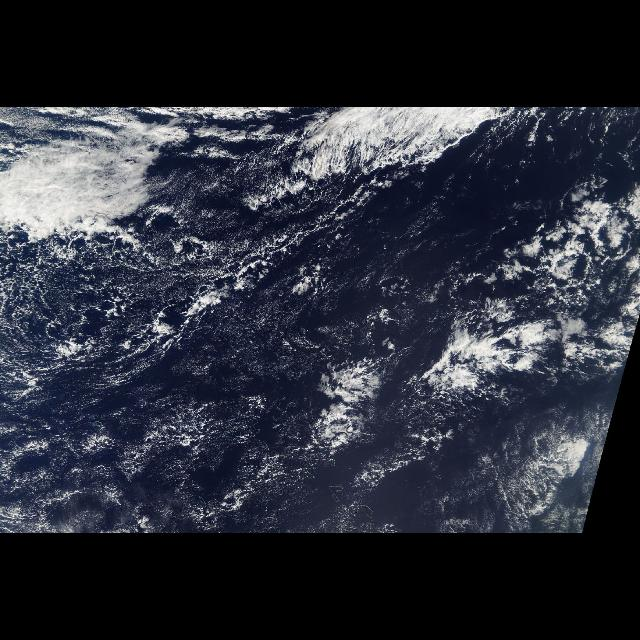Fish: (310, 300, 558, 462)
Gravel: (1, 208, 308, 534), (491, 202, 634, 334)
Sugar: (1, 263, 591, 533)
